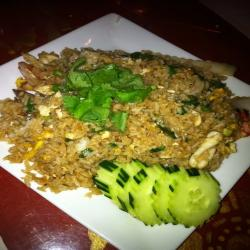rice: (5, 51, 240, 189)
